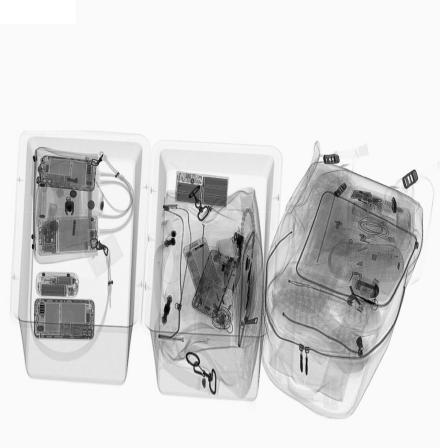Powerbank: (176, 171, 231, 208)
